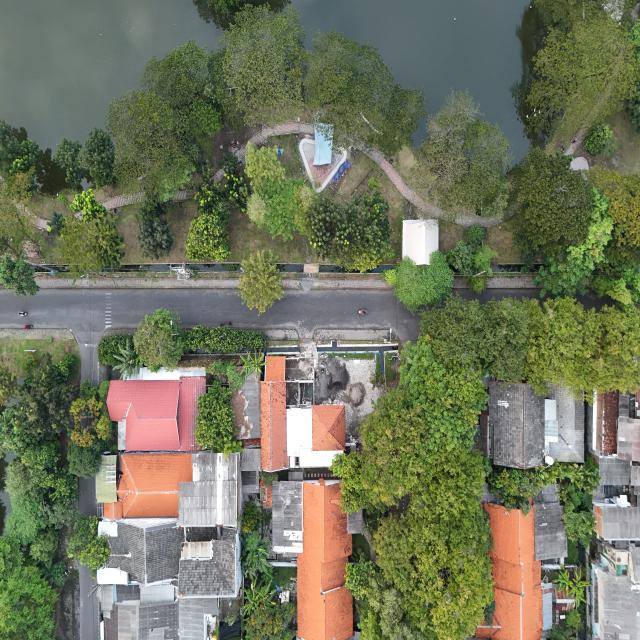Tree: (239, 249, 284, 313), (186, 211, 234, 264), (451, 240, 474, 275), (466, 223, 486, 242)
